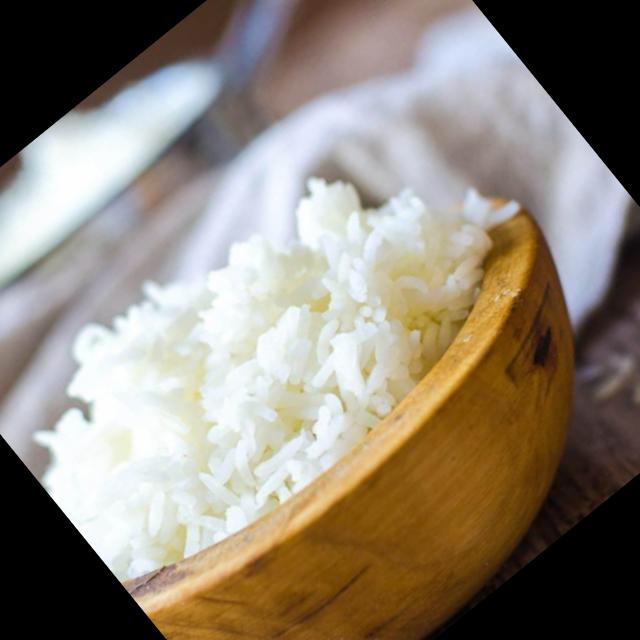rice: (43, 170, 496, 577)
